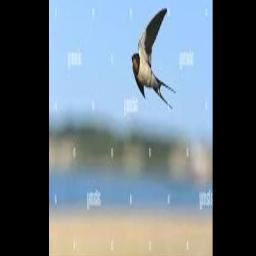Swallow: (132, 7, 176, 107)
